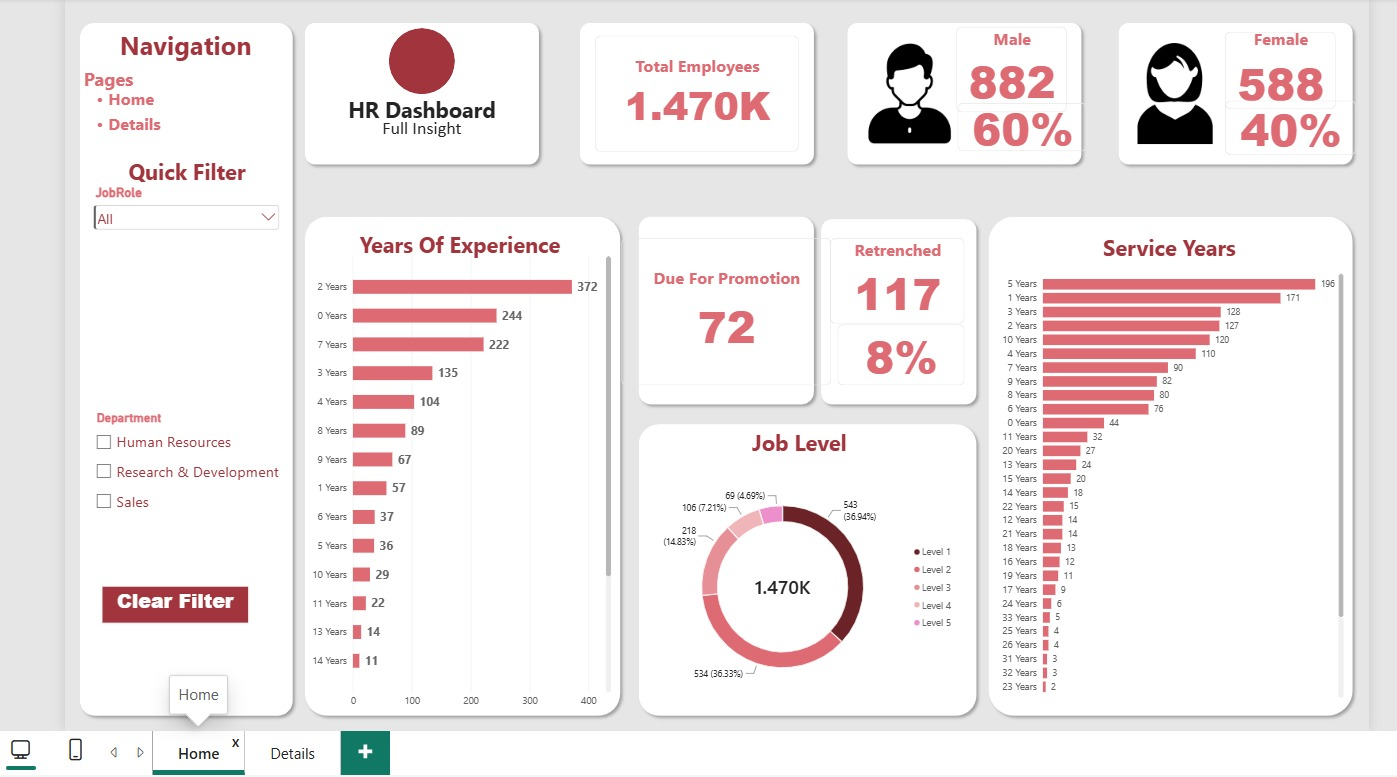

This screenshot's page, from the dashboard's own definition file:
{"tool":"powerbi","page":{"name":"Home","canvas":[1920,1080],"ordinal":0},"visuals":[{"type":"shape","box":[12.9,27.6,331.3,1038],"z":0},{"type":"shape","box":[1542.3,27.6,362.6,226.4],"z":1000},{"type":"shape","box":[1143,27.6,362.6,226.4],"z":2000},{"type":"shape","box":[749.1,27.6,362.6,226.4],"z":3000},{"type":"shape","box":[344.2,27.6,362.6,226.4],"z":4000},{"type":"shape","box":[344.2,312.9,482.2,752.8],"z":5000},{"type":"shape","box":[835.6,312.9,276.1,294.5],"z":6000},{"type":"shape","box":[835.6,618.4,515.3,447.2],"z":7000},{"type":"shape","box":[1350.9,312.9,554,752.8],"z":8000},{"type":"shape","box":[1104.3,316.6,246.6,290.8],"z":9000},{"type":"textbox","box":[375.5,141.7,300,55.2],"z":10000},{"type":"textbox","box":[375.5,174.8,300,42.3],"z":11000},{"type":"shape","box":[476.7,44.2,97.5,97.5],"z":12000},{"type":"cardVisual","fields":{"Data":["HR Analytics Data.Totla Employees"]},"box":[780.4,55.2,300,171],"z":13000},{"type":"cardVisual","fields":{"Data":["HR Analytics Data.Male"]},"box":[1312.3,42.3,163.8,127],"z":14000},{"type":"cardVisual","fields":{"Data":["HR Analytics Data.Female"]},"box":[1708,49.7,163.8,114.1],"z":15000},{"type":"cardVisual","fields":{"Data":["HR Analytics Data.Male Prec"]},"box":[1314.1,154.6,191.4,71.8],"z":16000},{"type":"cardVisual","fields":{"Data":["HR Analytics Data.female Prec"]},"box":[1708,150.9,193.3,81],"z":17000},{"type":"cardVisual","fields":{"Data":["HR Analytics Data.Retrenched"]},"box":[1126.4,353.4,198.8,127],"z":18000},{"type":"cardVisual","fields":{"Data":["HR Analytics Data.Retrenched prec"]},"box":[1137.4,480.4,187.7,90.2],"z":19000},{"type":"cardVisual","fields":{"Data":["HR Analytics Data.Due For Promotion"]},"box":[819,353.4,309.2,217.2],"z":20000},{"type":"barChart","fields":{"Category":["HR Analytics Data.Years Of Experience"],"Y":["HR Analytics Data.Totla Employees"]},"box":[358.9,371.8,445.4,677.3],"z":21000},{"type":"textbox","box":[406.8,340.5,349.7,60.7],"z":22000},{"type":"image","box":[1161.4,66.3,163.8,149.1],"z":23000},{"type":"image","box":[1544.2,66.3,180.4,149.1],"z":24000},{"type":"donutChart","fields":{"Category":["HR Analytics Data.Job Level"],"Y":["HR Analytics Data.Totla Employees"]},"box":[865,684.7,449.1,364.4],"z":25000},{"type":"textbox","box":[931.3,633.1,300,51.5],"z":26000},{"type":"barChart","fields":{"Category":["HR Analytics Data.Service Year"],"Y":["HR Analytics Data.Totla Employees"]},"box":[1375,398,508,633],"z":27000},{"type":"textbox","box":[1476.1,346,300,51.5],"z":28000},{"type":"textbox","box":[27.6,44.2,300,51.5],"z":29000},{"type":"textbox","box":[27.6,101.2,300,40.5],"z":30000},{"type":"textbox","box":[27.6,132.5,300,42.3],"z":31000},{"type":"textbox","box":[27.6,169.3,300,33.1],"z":32000},{"type":"actionButton","box":[27.6,132.5,182.2,31.3],"z":33000},{"type":"actionButton","box":[44.2,174.8,119.6,27.6],"z":34000},{"type":"textbox","box":[29.4,233.7,300,42.3],"z":35000},{"type":"slicer","fields":{"Values":["HR Analytics Data.Department"]},"box":[38.7,607.4,283.4,185.9],"z":36000},{"type":"slicer","fields":{"Values":["HR Analytics Data.JobRole"]},"box":[36.8,276.1,283.4,84.7],"z":37000},{"type":"actionButton","title":"Clear Filter","box":[55,866,214.1,53.1],"z":37001}]}

Visuals, with their boxes on the page's 1920x1080 design canvas (x1, y1, x2, y2). These are canvas units, not pixel positions in the 1397x777 screenshot, which may show the page scaled, cropped or inside an application window:
shape: box=[13, 28, 344, 1066]
shape: box=[1542, 28, 1905, 254]
shape: box=[1143, 28, 1506, 254]
shape: box=[749, 28, 1112, 254]
shape: box=[344, 28, 707, 254]
shape: box=[344, 313, 826, 1066]
shape: box=[836, 313, 1112, 607]
shape: box=[836, 618, 1351, 1066]
shape: box=[1351, 313, 1905, 1066]
shape: box=[1104, 317, 1351, 607]
textbox: box=[376, 142, 676, 197]
textbox: box=[376, 175, 676, 217]
shape: box=[477, 44, 574, 142]
cardVisual - HR Analytics Data.Totla Employees: box=[780, 55, 1080, 226]
cardVisual - HR Analytics Data.Male: box=[1312, 42, 1476, 169]
cardVisual - HR Analytics Data.Female: box=[1708, 50, 1872, 164]
cardVisual - HR Analytics Data.Male Prec: box=[1314, 155, 1506, 226]
cardVisual - HR Analytics Data.female Prec: box=[1708, 151, 1901, 232]
cardVisual - HR Analytics Data.Retrenched: box=[1126, 353, 1325, 480]
cardVisual - HR Analytics Data.Retrenched prec: box=[1137, 480, 1325, 571]
cardVisual - HR Analytics Data.Due For Promotion: box=[819, 353, 1128, 571]
barChart - HR Analytics Data.Years Of Experience x HR Analytics Data.Totla Employees: box=[359, 372, 804, 1049]
textbox: box=[407, 340, 756, 401]
image: box=[1161, 66, 1325, 215]
image: box=[1544, 66, 1725, 215]
donutChart - HR Analytics Data.Job Level x HR Analytics Data.Totla Employees: box=[865, 685, 1314, 1049]
textbox: box=[931, 633, 1231, 685]
barChart - HR Analytics Data.Service Year x HR Analytics Data.Totla Employees: box=[1375, 398, 1883, 1031]
textbox: box=[1476, 346, 1776, 398]
textbox: box=[28, 44, 328, 96]
textbox: box=[28, 101, 328, 142]
textbox: box=[28, 132, 328, 175]
textbox: box=[28, 169, 328, 202]
actionButton: box=[28, 132, 210, 164]
actionButton: box=[44, 175, 164, 202]
textbox: box=[29, 234, 329, 276]
slicer - HR Analytics Data.Department: box=[39, 607, 322, 793]
slicer - HR Analytics Data.JobRole: box=[37, 276, 320, 361]
"Clear Filter" actionButton: box=[55, 866, 269, 919]
